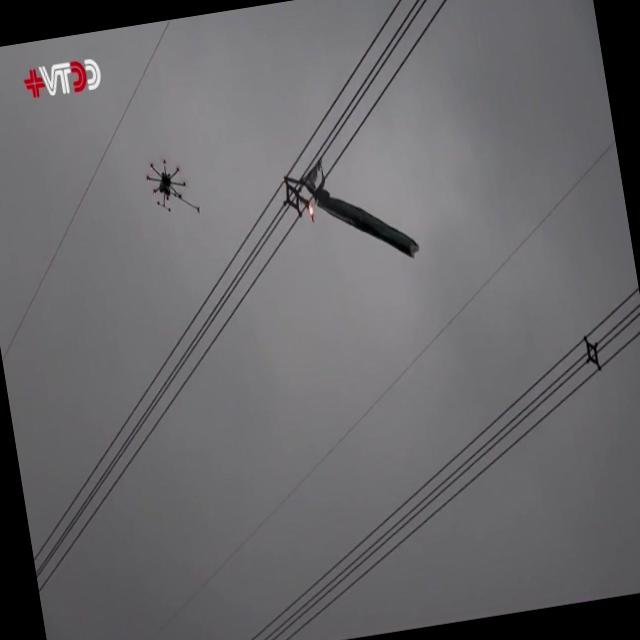drone: (142, 154, 192, 218)
